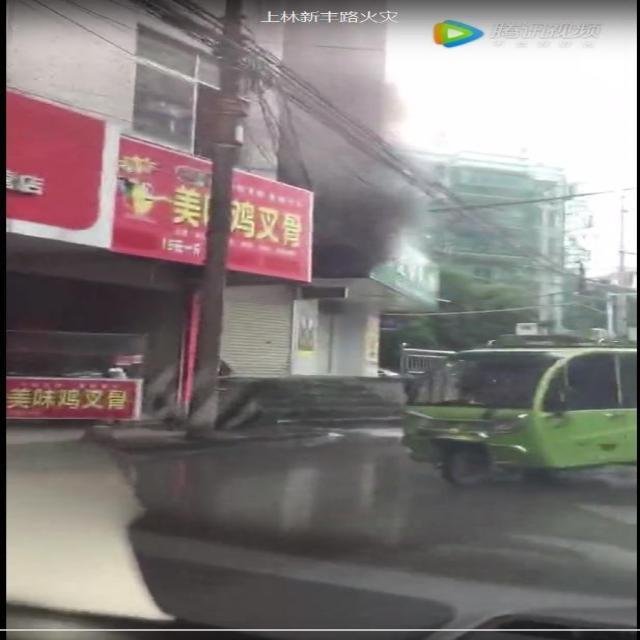Smoke: (279, 62, 437, 280)
